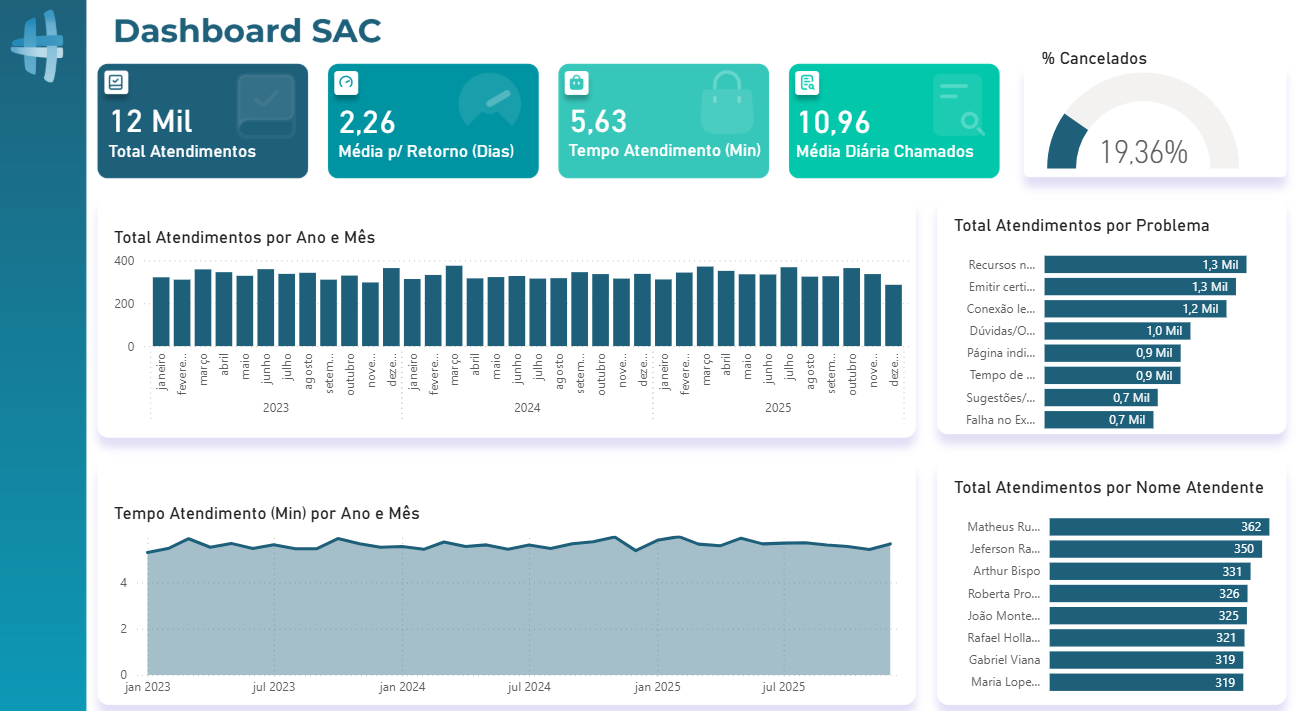

This screenshot's page, from the dashboard's own definition file:
{"tool":"powerbi","page":{"name":"Página 1","canvas":[1280,720],"ordinal":0},"visuals":[{"type":"cardVisual","fields":{"Data":["fOcorrencias.Total Atendimentos"]},"box":[83.7,42.5,310.1,186.6],"z":0},{"type":"cardVisual","fields":{"Data":["fOcorrencias.Média p/ Retorno (Dias)"]},"box":[308.7,42.5,310.1,188],"z":1000},{"type":"cardVisual","fields":{"Data":["fOcorrencias.Tempo Atendimento (Min)"]},"box":[535.2,41.2,310.1,188],"z":2000},{"type":"cardVisual","fields":{"Data":["fOcorrencias.Média Diária Chamados"]},"box":[758.8,42.5,310.1,188],"z":3000},{"type":"gauge","fields":{"Y":["fOcorrencias.% Cancelados"]},"box":[1023.7,53.5,209.9,123.5],"z":4000},{"type":"columnChart","fields":{"Y":["fOcorrencias.Total Atendimentos"],"Category":["fOcorrencias.Data Chamado.Variation.Hierarquia de datas.Ano","fOcorrencias.Data Chamado.Variation.Hierarquia de datas.Mês"]},"box":[112.5,229.2,791.8,200.3],"z":5000},{"type":"areaChart","fields":{"Y":["fOcorrencias.Tempo Atendimento (Min)"],"Category":["fOcorrencias.Data Chamado.Variation.Hierarquia de datas.Ano","fOcorrencias.Data Chamado.Variation.Hierarquia de datas.Mês"]},"box":[112.5,500.9,793.1,199],"z":6000},{"type":"barChart","fields":{"Y":["fOcorrencias.Total Atendimentos"],"Category":["dProblema.Problema"]},"box":[937.4,217.2,323.9,224.5],"z":7000},{"type":"barChart","fields":{"Y":["fOcorrencias.Total Atendimentos"],"Category":["dSuporte.Nome Atendente"]},"box":[937.4,474.8,342.3,224.5],"z":8000}]}

Visuals, with their boxes in screenshot pixels (x1, y1, x2, y2), scaled from the page's 1280x720 canvas onto the 1296x711 screenshot:
cardVisual - fOcorrencias.Total Atendimentos: 85/42/399/226
cardVisual - fOcorrencias.Média p/ Retorno (Dias): 313/42/627/228
cardVisual - fOcorrencias.Tempo Atendimento (Min): 542/41/856/226
cardVisual - fOcorrencias.Média Diária Chamados: 768/42/1082/228
gauge - fOcorrencias.% Cancelados: 1036/53/1249/175
columnChart - fOcorrencias.Total Atendimentos x fOcorrencias.Data Chamado.Variation.Hierarquia de datas.Ano: 114/226/916/424
areaChart - fOcorrencias.Tempo Atendimento (Min) x fOcorrencias.Data Chamado.Variation.Hierarquia de datas.Ano: 114/495/917/691
barChart - fOcorrencias.Total Atendimentos x dProblema.Problema: 949/214/1277/436
barChart - fOcorrencias.Total Atendimentos x dSuporte.Nome Atendente: 949/469/1295/691
